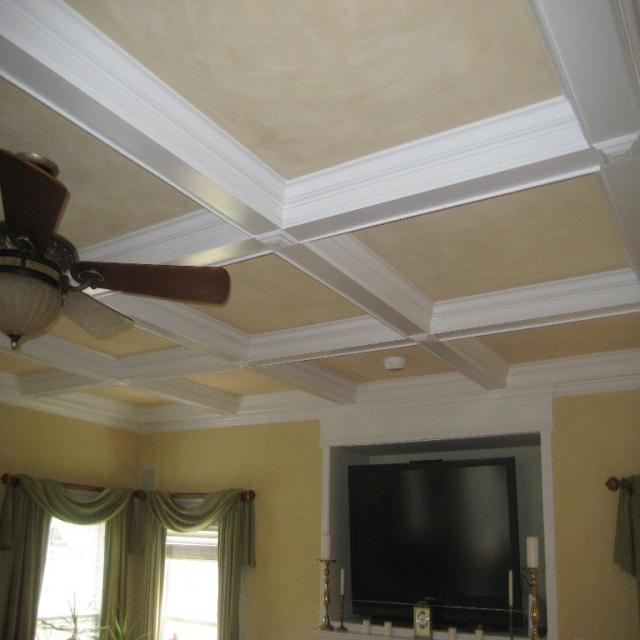Bulb: (0, 146, 224, 391)
